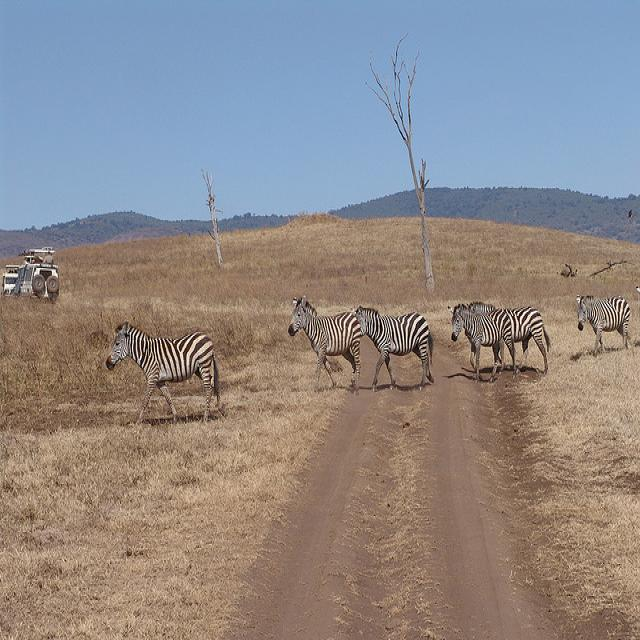Vehicle: (19, 266, 59, 299), (4, 273, 18, 296)
